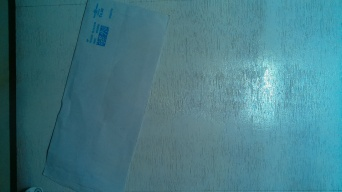l: (42, 1, 170, 189)
